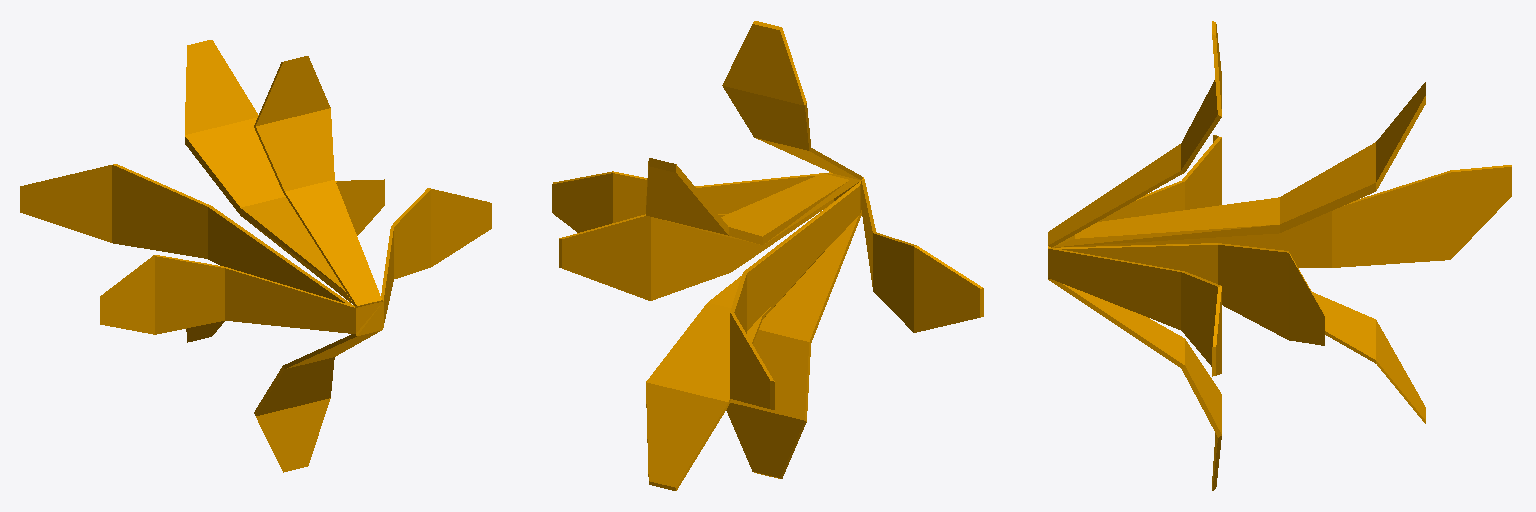
The robot description file, URDF, robot "carrot_green":
<?xml version="1.0"?>
<robot name="carrot_green">
  <link name="green">
    <inertial>
        <origin rpy="0 0 0" xyz="0 0 0"/>
        <mass value="0.001"/>
        <inertia ixx="1.9e-5" ixy="0" ixz="0" iyy="6.8e-6" iyz="0" izz="1.2e-5"/>
    </inertial>
    <visual>
      <geometry>
        <mesh filename="carrotGreen2.obj"/>
      </geometry>
    </visual>
    <collision>
      <geometry>
        <mesh filename="carrotGreenCollider.obj"/>
      </geometry>
      <surface>
           <bounce restitution_coefficient = "0.1"/>
      </surface>
    </collision>
  </link>
</robot>

--- Render facts (derived) ---
Views: 3 orthographic renders of the robot side by side, from view 1: azimuth 30°, elevation 25°; view 2: azimuth 150°, elevation 25°; view 3: azimuth 270°, elevation 25°.
Model carrot_green with 1 links and 0 joints (none), rooted at green, posed every joint at zero.
Visible links, largest first — view 1: green; view 2: green; view 3: green.
Link boxes in pixels (x1,y1,x2,y2): green: [20, 40, 491, 472]; green: [552, 21, 983, 490]; green: [1048, 21, 1511, 490].
Bounding box of the posed robot: 0.3457 × 0.3192 × 0.3466 m (x, y, z).
Meshes: 1 distinct files referenced, 1 mesh visuals loaded (1 OBJ).